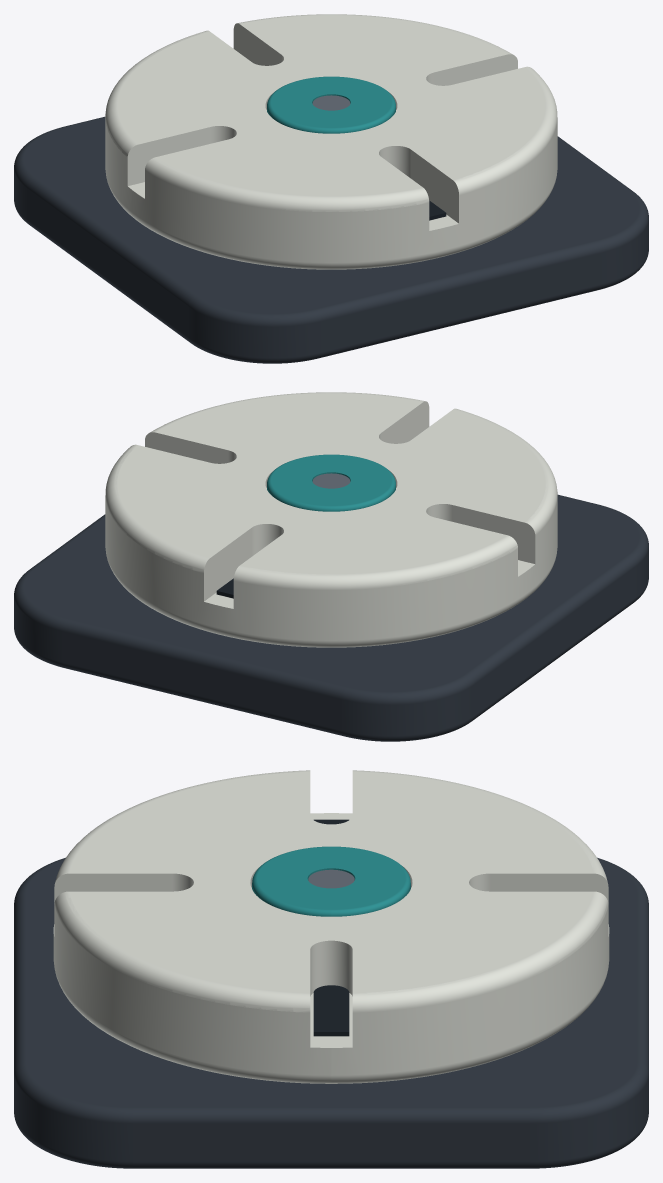
File: orbit-final.glb
3 views of the same model, one above another, from view 1: azimuth 30°, elevation 25°; view 2: azimuth 150°, elevation 25°; view 3: azimuth 270°, elevation 25° (orthographic). The views are drawn at different scales.
Parts seen in each view (by area): view 1: rotor:four-slot, base:soft-square, retainer:centre-cap; view 2: rotor:four-slot, base:soft-square, retainer:centre-cap; view 3: rotor:four-slot, base:soft-square, retainer:centre-cap, slot-liner:000deg, fastener-envelope:M4-TBD.
Part boxes in pixels (x1,y1,x2,y2): rotor:four-slot: (105,14,557,269); base:soft-square: (14,116,648,363); retainer:centre-cap: (267,76,395,133); rotor:four-slot: (105,392,557,647); base:soft-square: (14,494,648,741); retainer:centre-cap: (267,454,395,511); rotor:four-slot: (53,770,609,1083); base:soft-square: (14,857,648,1168); retainer:centre-cap: (252,846,410,916); slot-liner:000deg: (313,985,349,1036); fastener-envelope:M4-TBD: (308,869,354,888).
Size of the model in its own units: 0.096 by 0.0267 by 0.096.
